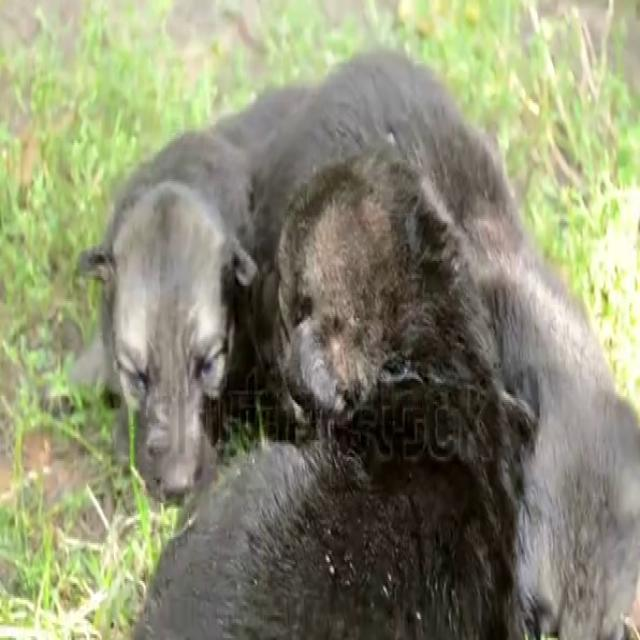normal_animals: (72, 42, 636, 636)
